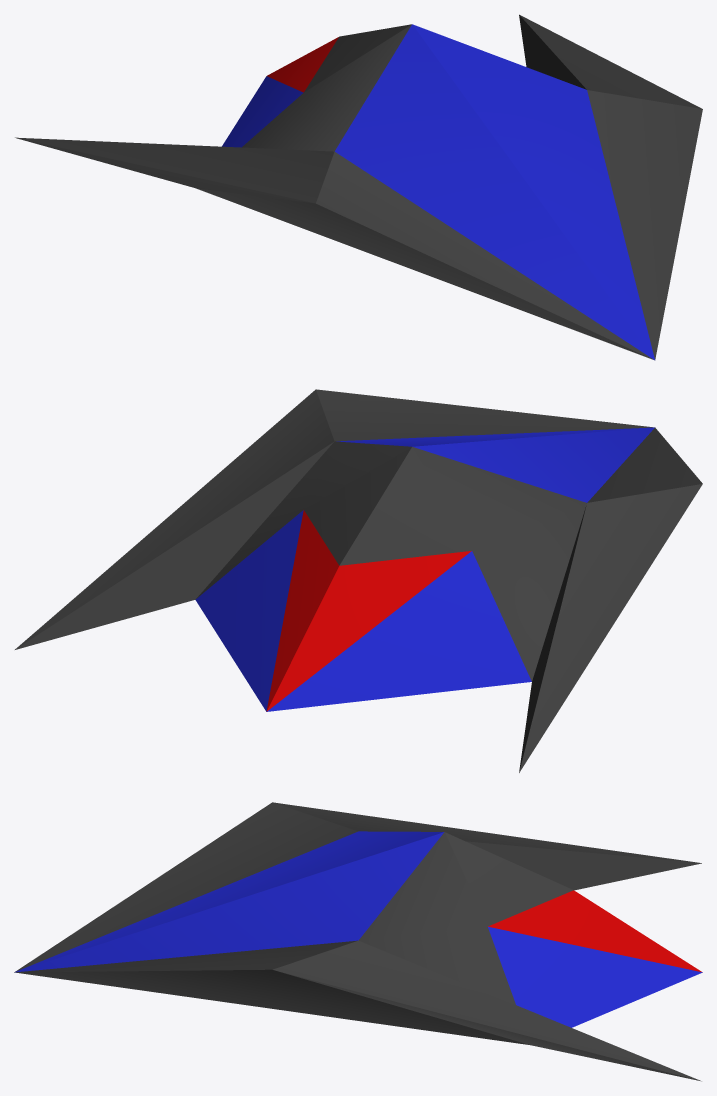
The model's file is ship3.obj.
The picture shows the model from 3 angles, top to bottom: view 1: azimuth 30°, elevation 25°; view 2: azimuth 150°, elevation 25°; view 3: azimuth 270°, elevation 25°; orthographic projection. The views are drawn at different scales.
Visible parts, largest first — view 1: 000_Buffer_Layer; view 2: 000_Buffer_Layer; view 3: 000_Buffer_Layer.
Boxes of the visible parts, <box> form: 000_Buffer_Layer: <box>15,14,702,360</box>; 000_Buffer_Layer: <box>15,389,702,772</box>; 000_Buffer_Layer: <box>14,802,702,1081</box>.
Bounding box in the file's own units: 60 × 18 × 80.
